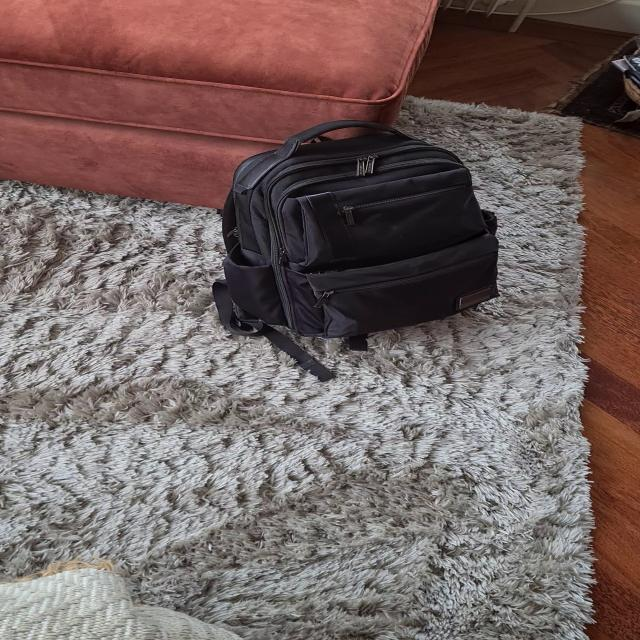backpack: (201, 115, 509, 353)
